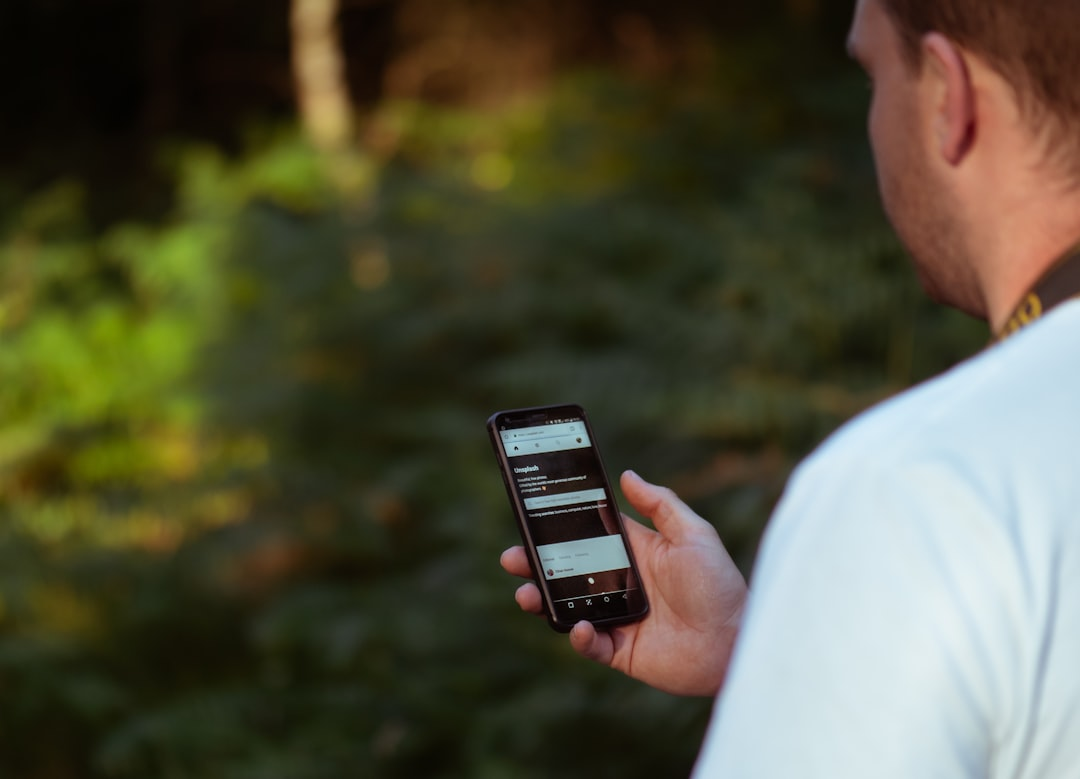phone: (488, 401, 651, 635)
